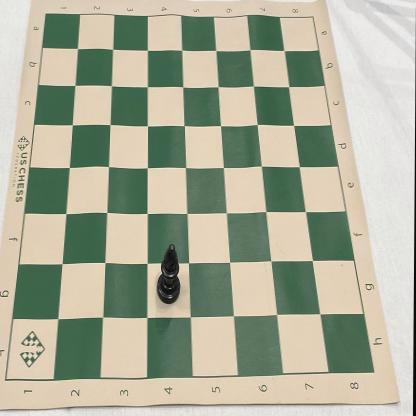black-bishop: (157, 245, 182, 304)
